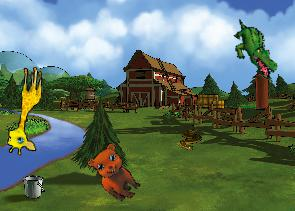bear: (81, 138, 151, 206)
crocodile: (220, 17, 289, 81)
giraffe: (5, 64, 43, 156)
